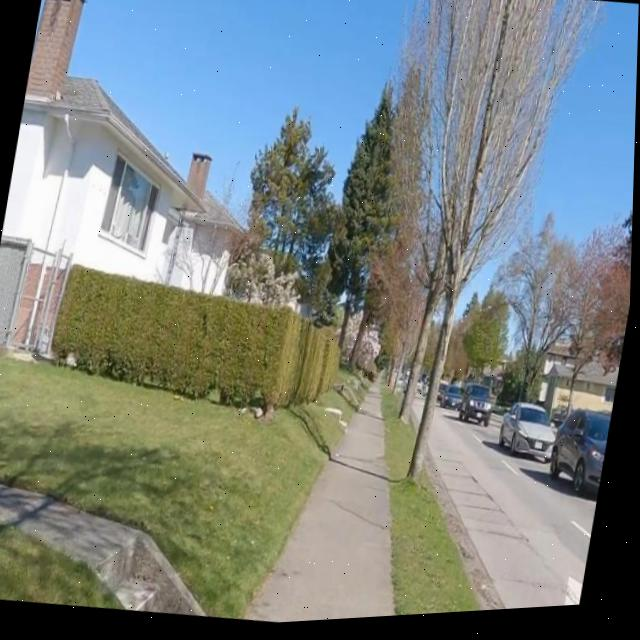Automobile: (553, 416, 614, 500), (503, 409, 558, 465), (462, 389, 494, 432), (443, 391, 464, 413)
Road: (432, 415, 600, 616)
Sidewalk: (248, 387, 399, 626)
